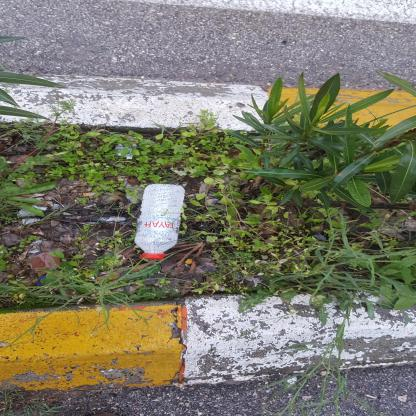plastik: (156, 134, 232, 186)
